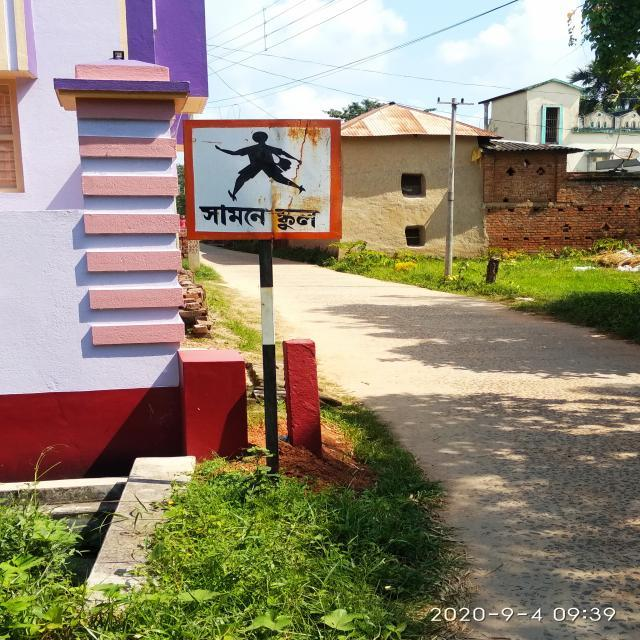school ahead: (176, 115, 346, 244)
